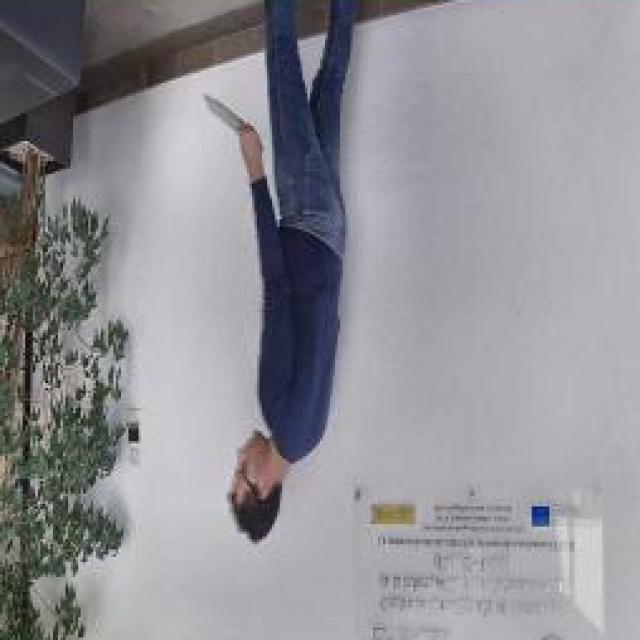knife: (199, 85, 267, 154)
